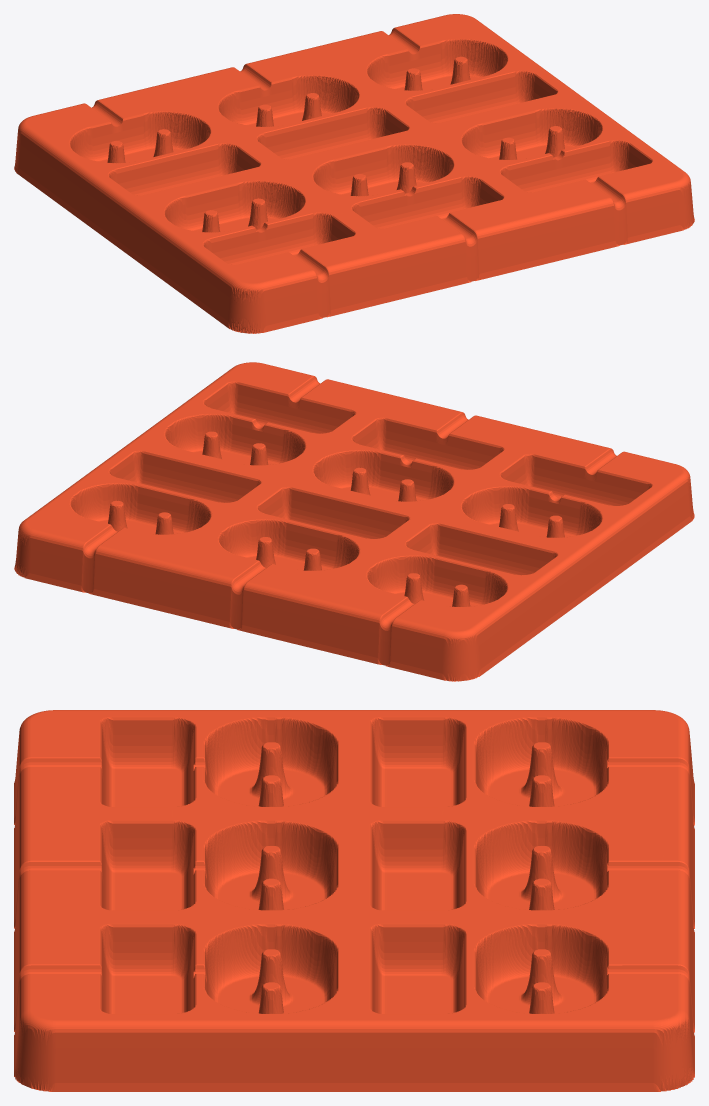
The model's file is mold.glb.
3 renders of one model, top to bottom at view 1: azimuth 30°, elevation 25°; view 2: azimuth 150°, elevation 25°; view 3: azimuth 270°, elevation 25°, orthographic. The views are drawn at different scales.
Visible parts, largest first — view 1: geometry_0; view 2: geometry_0; view 3: geometry_0.
Part boxes in pixels (x1=…): geometry_0: x1=14, y1=14, x2=694, y2=333; geometry_0: x1=14, y1=362, x2=694, y2=681; geometry_0: x1=14, y1=710, x2=694, y2=1091.
Bounding box in the file's own units: 0.1658 × 0.0155 × 0.1477.
